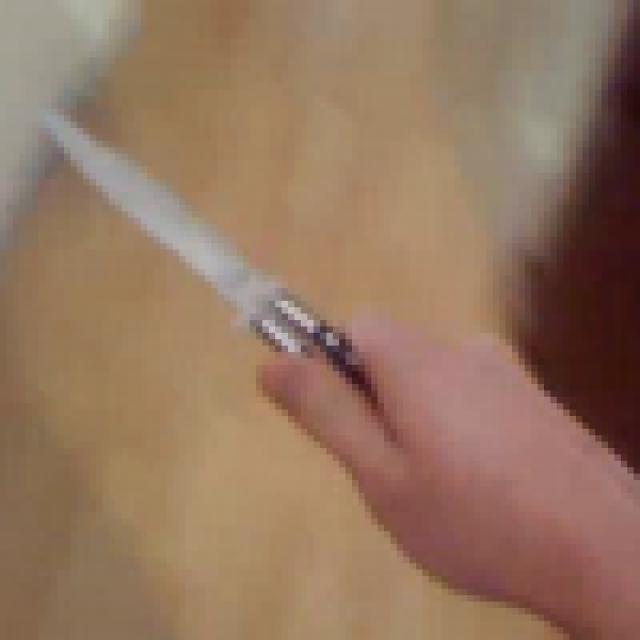Weapons: (36, 102, 407, 435)
